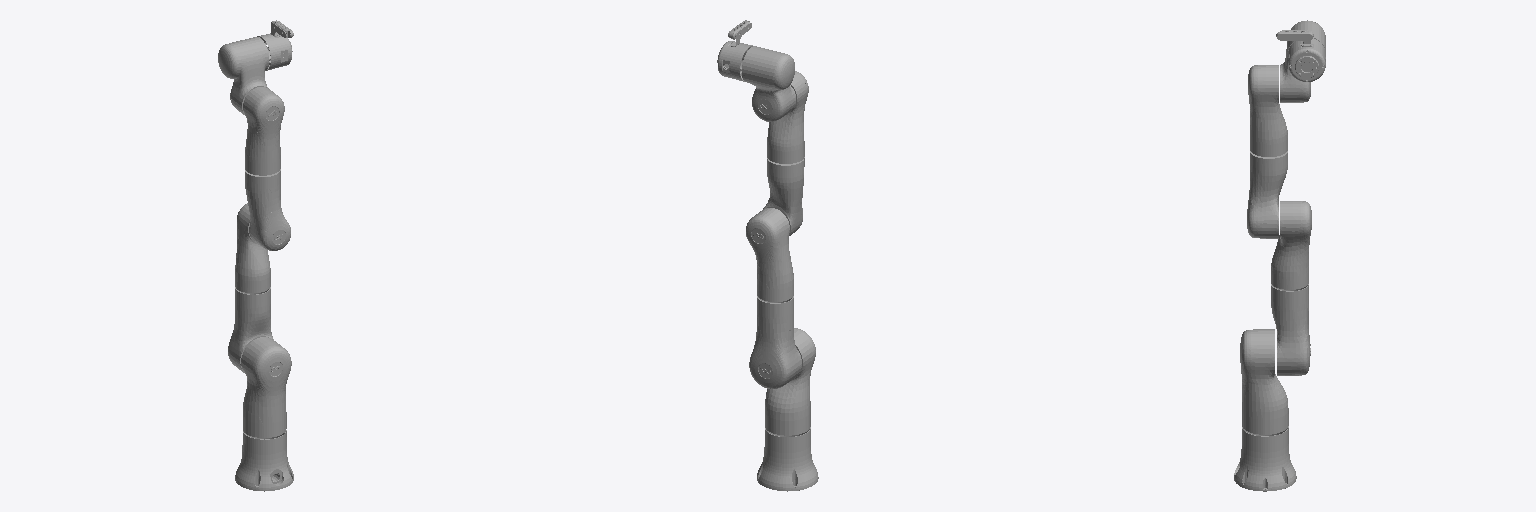
robot.urdf — right_robot_inhand:
<robot name="right_robot_inhand">

  <!-- material definition-->
  
  <material name = "robot_grey">
    <color rgba="0.7 0.7 0.7 1" />
  </material>

  <material name="gripper_black">
    <color rgba="0.1 0.1 0.1 1"/>
  </material>      
  
  <material name="gripper_white">
    <color rgba="0.9 0.9 0.9 1"/>
  </material>

  <material name="gripper_grey">
    <color rgba="0.792156862745098 0.819607843137255 0.933333333333333 1"/>
  </material>

  <!-- joints of right arm -->

  <joint name="joint1" type="revolute">
    <parent link="base_link"/>
    <child link="link1"/>
    <origin rpy="0 3.141592653589793 0" xyz="0 0 0.155"/>
    <axis xyz="0 0 1"/>
    <limit effort="123" lower="-2.7925" upper="2.7925" velocity="2.0944"/>
  </joint>

  <joint name="joint2" type="revolute">
    <parent link="link1"/>
    <child link="link2"/>
    <origin rpy="0 0 3.141592653589793" xyz="0.0 0.03 -0.210"/>
    <axis xyz="0 1 0"/>
    <limit effort="123" lower="-2.2689" upper="2.2689" velocity="2.0944"/>
  </joint>

  <joint name="joint3" type="revolute">
    <parent link="link2"/>
    <child link="link3"/>
    <origin rpy="0 0 3.141592653589793" xyz="0.0 -0.035 -0.205"/>
    <axis xyz="0 0 1"/>
    <limit effort="64" lower="-2.9671" upper="2.9671" velocity="2.4435"/>
  </joint>

  <joint name="joint4" type="revolute">
    <parent link="link3"/>
    <child link="link4"/>
    <origin rpy="0 0 0" xyz="-0.02 -0.03 -0.19"/>
    <axis xyz="0 1 0"/>
    <limit effort="64" lower="-1.8675" upper="2.6878" velocity="2.4435"/>
  </joint>

  <joint name="joint5" type="revolute">
    <parent link="link4"/>
    <child link="link5"/>
    <origin rpy="0 0 0" xyz="0.02 -0.025 -0.195"/>
    <axis xyz="0 0 1"/>
    <limit effort="39" lower="-2.9671" upper="2.9671" velocity="4.8869"/>
  </joint>

  <joint name="joint6" type="revolute">
    <parent link="link5"/>
    <child link="link6"/>
    <origin rpy="0 0 3.141592653589793" xyz="0.0 0.03 -0.19"/>
    <axis xyz="0 1 0"/>
    <limit effort="39" lower="-1.3963" upper="4.5379" velocity="4.8869"/>
  </joint>

  <joint name="joint7" type="revolute">
    <parent link="link6"/>
    <child link="link7"/>
    <origin rpy="0 -1.5707963267948966 0" xyz="0.055 -0.070 -0.11"/>
    <axis xyz="0 0 1"/>
    <limit effort="39" lower="-2.9671" upper="2.9671" velocity="4.8869"/>
  </joint>

  <joint name="link7_to_flange" type="fixed">
    <parent link="link7"/>
    <child link="flange"/>
    <origin rpy="3.141592653589793 0 0" xyz="0.0 0.0 -0.081"/>
  </joint>

  <!-- links of right arm -->

  <link name="base_link">
    <inertial>
      <mass value="3.653"/>
      <origin rpy="0 0 0" xyz="0.0002 0.0006 0.0874"/>
      <inertia ixx="0.0194" ixy="0.0000" ixz="0.0000" iyy="0.0196" iyz="-0.0001" izz="0.0088"/>
    </inertial>
    <visual>
      <origin rpy="0 0 3.141592653589793" xyz="0 0 0"/>
      <geometry>
        <mesh filename="meshes/flexiv_arm/visual/link0.obj"/>
      </geometry>
      <material name="robot_grey" />
    </visual>
    <collision>
      <origin rpy="0 0 3.141592653589793" xyz="0 0 0"/>
      <geometry>
        <mesh filename="meshes/flexiv_arm/collision/link0.stl"/>
      </geometry>
    </collision>
  </link>

  <link name="link1">
    <inertial>
      <mass value="3.673"/>
      <origin rpy="0 0 0" xyz="0.0000 0.0060 -0.1489"/>
      <inertia ixx="0.0276" ixy="0.0000" ixz="0.0000" iyy="0.0272" iyz="-0.0017" izz="0.0077"/>
    </inertial>
    <visual>
      <origin rpy="0 3.141592653589793 0" xyz="0 0 0"/>
      <geometry>
        <mesh filename="meshes/flexiv_arm/visual/link1.obj"/>
      </geometry>
      <material name="robot_grey" />
    </visual>
    <collision>
      <origin rpy="0 3.141592653589793 0" xyz="0 0 0"/>
      <geometry>
        <mesh filename="meshes/flexiv_arm/collision/link1.stl"/>
      </geometry>
    </collision>
  </link>

  <link name="link2">
    <inertial>
      <mass value="2.734"/>
      <origin rpy="0 0 0" xyz="0.0000 -0.0362 -0.0979"/>
      <inertia ixx="0.0234" ixy="0.0000" ixz="0.0000" iyy="0.0243" iyz="-0.0003" izz="0.0036"/>
    </inertial>
    <visual>
      <origin rpy="3.141592653589793 0 0" xyz="0 0 0"/>
      <geometry>
        <mesh filename="meshes/flexiv_arm/visual/link2.obj"/>
      </geometry>
      <material name="robot_grey" />
    </visual>
    <collision>
      <origin rpy="3.141592653589793 0 0" xyz="0 0 0"/>
      <geometry>
        <mesh filename="meshes/flexiv_arm/collision/link2.stl"/>
      </geometry>
    </collision>
  </link>

  <link name="link3">
    <inertial>
      <mass value="2.397"/>
      <origin rpy="0 0 0" xyz="-0.0117 -0.0028 -0.1334"/>
      <inertia ixx="0.0141" ixy="0.0001" ixz="0.0014" iyy="0.0137" iyz="0.0007" izz="0.0038"/>
    </inertial>
    <visual>
      <origin rpy="0 3.141592653589793 0" xyz="0 0 0"/>
      <geometry>
        <mesh filename="meshes/flexiv_arm/visual/link3r.obj"/>
      </geometry>
      <material name="robot_grey" />
    </visual>
    <collision>
      <origin rpy="0 3.141592653589793 0" xyz="0 0 0"/>
      <geometry>
        <mesh filename="meshes/flexiv_arm/collision/link3r.obj"/>
      </geometry>
    </collision>
  </link>

  <link name="link4">
    <inertial>
      <mass value="2.397"/>
      <origin rpy="0 0 0" xyz="0.0126 -0.0312 -0.1013"/>
      <inertia ixx="0.0184" ixy="0.0001" ixz="-0.0016" iyy="0.0188" iyz="-0.0012" izz="0.0030"/>
    </inertial>
    <visual>
      <origin rpy="3.141592653589793 0 0" xyz="0 0 0"/>
      <geometry>
        <mesh filename="meshes/flexiv_arm/visual/link4r.obj"/>
      </geometry>
      <material name="robot_grey" />
    </visual>
    <collision>
      <origin rpy="3.141592653589793 0 0" xyz="0 0 0"/>
      <geometry>
        <mesh filename="meshes/flexiv_arm/collision/link4r.obj"/>
      </geometry>
    </collision>
  </link>

  <link name="link5">
    <inertial>
      <mass value="2.363"/>
      <origin rpy="0 0 0" xyz="0.0000 0.0032 -0.1328"/>
      <inertia ixx="0.0140" ixy="0.0000" ixz="0.0000" iyy="0.0134" iyz="-0.0007" izz="0.0036"/>
    </inertial>
    <visual>
      <origin rpy="0 3.141592653589793 0" xyz="0 0 0"/>
      <geometry>
        <mesh filename="meshes/flexiv_arm/visual/link5.obj"/>
      </geometry>
      <material name="robot_grey" />
    </visual>
    <collision>
      <origin rpy="0 3.141592653589793 0" xyz="0 0 0"/>
      <geometry>
        <mesh filename="meshes/flexiv_arm/collision/link5.stl"/>
      </geometry>
    </collision>
  </link>

  <link name="link6">
    <inertial>
      <mass value="2.135"/>
      <origin rpy="0 0 0" xyz="0.0093 -0.0567 -0.0694"/>
      <inertia ixx="0.0083" ixy="-0.0003" ixz="-0.0008" iyy="0.0086" iyz="0.0018" izz="0.0036"/>
    </inertial>
    <visual>
      <origin rpy="0 3.141592653589793 0" xyz="0 0 0"/>
      <geometry>
        <mesh filename="meshes/flexiv_arm/visual/link6r.obj"/>
      </geometry>
      <material name="robot_grey" />
    </visual>
    <collision>
      <origin rpy="0 3.141592653589793 0" xyz="0 0 0"/>
      <geometry>
        <mesh filename="meshes/flexiv_arm/collision/link6r.obj"/>
      </geometry>
    </collision>
  </link>

  <link name="link7">
    <inertial>
      <mass value="0.793"/>
      <origin rpy="0 0 0" xyz="0.0000 0.0003 -0.0250"/>
      <inertia ixx="0.0009" ixy="0.0000" ixz="0.0000" iyy="0.0010" iyz="0.0000" izz="0.0009"/>
    </inertial>
    <visual>
      <origin rpy="3.141592653589793 0 0" xyz="0 0 0"/>
      <geometry>
        <mesh filename="meshes/flexiv_arm/visual/link7_inhand_r.stl"/>
      </geometry>
      <material name="robot_grey" />
    </visual>
    <collision>
      <origin rpy="3.141592653589793 0 0" xyz="0 0 0"/>
      <geometry>
        <mesh filename="meshes/flexiv_arm/collision/link7_inhand_r.stl"/>
      </geometry>
    </collision>
  </link>

  <link name="flange">
    <inertial>
      <mass value="0.0" />
      <origin rpy="0 0 0" xyz="0.0 0.0 0.0" />
      <inertia ixx="0.0" ixy="0.0" ixz="0.0" iyy="0.0" iyz="0.0" izz="0.0" />
    </inertial>
  </link>

  <!-- right arm to gripper -->

  <joint name="flange2gripper" type="fixed">
    <parent link="flange" />
    <child link="robotiq_2f85_base_link" />
    <origin rpy="0.0 0.0 -1.5707963267948966" xyz="0.0 0.0 0.0" />
  </joint>

  <!-- right gripper -->
  
  <link name="robotiq_2f85_base_link">
    <inertial>
      <origin xyz="0.00021987 -2.3546E-10 0.030163" rpy="0 0 0" />
      <mass value="0.30915" />
      <inertia ixx="0.00028972" ixy="-5.7879E-10" ixz="-1.8543E-06" iyy="0.00030737" iyz="1.682E-12" izz="0.00019914" />
    </inertial>
    <visual>
      <origin xyz="0 0 0" rpy="0 0 0" />
      <geometry>
        <mesh filename="meshes/gripper/visual/robotiq_2f85_base_link.stl" />
      </geometry>
      <material name="gripper_black" />
    </visual>
    <collision>
      <origin xyz="0 0 0" rpy="0 0 0" />
      <geometry>
        <mesh filename="meshes/gripper/collision/robotiq_2f85_base_link.stl" />
      </geometry>
    </collision>
  </link>

  <link name="left_outer_knuckle">
    <inertial>
      <origin xyz="0.0178331863169983 3.68915177224286E-11 0.0021442477325704" rpy="0 0 0" />
      <mass value="0.00684838849434396" />
      <inertia ixx="2.66832029033166E-07" ixy="1.66142314639824E-15" ixz="1.45945633322873E-07" iyy="1.3889233257419E-06" iyz="2.82951161241588E-15" izz="1.26603336914415E-06" />
    </inertial>
    <visual>
      <origin xyz="0 0 0" rpy="0 0 0" />
      <geometry>
        <mesh filename="meshes/gripper/visual/outer_knuckle.stl" />
      </geometry>
      <material name="gripper_black" />
    </visual>
    <collision>
      <origin xyz="0 0 0" rpy="0 0 0" />
      <geometry>
        <mesh filename="meshes/gripper/collision/outer_knuckle.stl" />
      </geometry>
    </collision>
  </link>

  <joint name="finger_joint" type="revolute">
    <origin xyz="0.0306011444260539 0 0.0627920162695395" rpy="0 0 0" />
    <parent link="robotiq_2f85_base_link" />
    <child link="left_outer_knuckle" />
    <axis xyz="0 -1 0" />
    <limit lower="0" upper="0.725" velocity="2.0" effort="1000" />
  </joint>

  <link name="left_outer_finger">
    <inertial>
      <origin xyz="0.00131451599174296 2.88942057994543E-15 0.0215404163180413" rpy="0 0 0" />
      <mass value="0.0273093985570947" />
      <inertia ixx="8.51629628283022E-06" ixy="2.58174336207405E-19" ixz="3.83829504344079E-07" iyy="6.9133328065108E-06" iyz="-7.58589926143789E-19" izz="2.25006832221981E-06" />
    </inertial>
    <visual>
      <origin xyz="0 0 0" rpy="0 0 0" />
      <geometry>
        <mesh filename="meshes/gripper/visual/outer_finger.stl" />
      </geometry>
      <material name="gripper_black" />
    </visual>
    <collision>
      <origin xyz="0 0 0" rpy="0 0 0" />
      <geometry>
        <mesh filename="meshes/gripper/collision/outer_finger.stl" />
      </geometry>
    </collision>
  </link>

  <joint name="left_outer_finger_joint" type="fixed">
    <origin xyz="0.0316910442266543 0 -0.00193396375724605" rpy="0 0 0" />
    <parent link="left_outer_knuckle" />
    <child link="left_outer_finger" />
    <axis xyz="0 -1 0" />
  </joint>

  <link name="left_inner_knuckle">
    <inertial>
      <origin xyz="0.017097546626628 -3.93808524389535E-10 0.0224918438201868" rpy="0 0 0" />
      <mass value="0.0110930853895903" />
      <inertia ixx="4.23392770691541E-06" ixy="5.748978936968E-15" ixz="1.78855677119788E-06" iyy="3.96548790524392E-06" iyz="1.05464666369669E-14" izz="3.24068002883007E-06" />
    </inertial>
    <visual>
      <origin xyz="0 0 0" rpy="0 0 0" />
      <geometry>
        <mesh filename="meshes/gripper/visual/inner_knuckle.stl" />
      </geometry>
      <material name="gripper_black" />
    </visual>
    <collision>
      <origin xyz="0 0 0" rpy="0 0 0" />
      <geometry>
        <mesh filename="meshes/gripper/collision/inner_knuckle.stl" />
      </geometry>
    </collision>
  </link>

  <joint name="left_inner_knuckle_joint" type="revolute">
    <origin xyz="0.0127000000001501 0 0.0693074999999639" rpy="0 0 0" />
    <parent link="robotiq_2f85_base_link" />
    <child link="left_inner_knuckle" />
    <axis xyz="0 -1 0" />
    <limit lower="0" upper="0.8757" velocity="2.0" effort="1000" />
    <mimic joint="finger_joint" multiplier="1" offset="0" />
  </joint>

  <link name="left_inner_finger">
    <inertial>
      <origin xyz="0.0060275613594574 -6.29183141465421E-15 0.00669925693133241" rpy="0 0 0" />
      <mass value="0.00724255346165745" />
      <inertia ixx="1.47824274053603E-06" ixy="-3.94884463570303E-19" ixz="-3.45268847648622E-07" iyy="1.70064480838395E-06" iyz="3.5059838910097E-19" izz="4.77151336838364E-07" />
    </inertial>
    <visual>
      <origin xyz="0 0 0" rpy="0 0 0" />
      <geometry>
        <mesh filename="meshes/gripper/visual/inner_finger.stl" />
      </geometry>
      <material name="gripper_black" />
    </visual>
    <collision>
      <origin xyz="0 0 0" rpy="0 0 0" />
      <geometry>
        <mesh filename="meshes/gripper/collision/inner_finger.stl" />
      </geometry>
    </collision>
  </link>

  <joint name="left_inner_finger_joint" type="revolute">
    <origin xyz="0.034585310861294 0 0.0454970193817975" rpy="0 0 0" />
    <parent link="left_inner_knuckle" />
    <child link="left_inner_finger" />
    <axis xyz="0 -1 0" />
    <limit lower="0" upper="0.8757" velocity="2.0" effort="1000" />
    <mimic joint="finger_joint" multiplier="-1" offset="0" />
  </joint>

  <link name="right_inner_knuckle">
    <inertial>
      <origin xyz="0.0168606186773776 3.93808471820465E-10 0.0226699950793434" rpy="0 0 0" />
      <mass value="0.0110930853895903" />
      <inertia ixx="4.27134775939882E-06" ixy="-8.53568456728898E-15" ixz="1.77774229944246E-06" iyy="3.96548790524392E-06" iyz="-8.45108024914164E-15" izz="3.20325997634666E-06" />
    </inertial>
    <visual>
      <origin xyz="0 0 0" rpy="0 0 0" />
      <geometry>
        <mesh filename="meshes/gripper/visual/inner_knuckle.stl" />
      </geometry>
      <material name="gripper_black" />
    </visual>
    <collision>
      <origin xyz="0 0 0" rpy="0 0 0" />
      <geometry>
        <mesh filename="meshes/gripper/collision/inner_knuckle.stl" />
      </geometry>
    </collision>
  </link>

  <joint name="right_inner_knuckle_joint" type="revolute">
    <origin xyz="-0.0126999999998499 0 0.0693075000000361" rpy="0 0 3.14159265358979" />
    <parent link="robotiq_2f85_base_link" />
    <child link="right_inner_knuckle" />
    <axis xyz="0 1 0" />
    <limit lower="0" upper="0.8757" velocity="2.0" effort="1000" />
    <mimic joint="finger_joint" multiplier="-1" offset="0" />
  </joint>

  <link name="right_inner_finger">
    <inertial>
      <origin xyz="0.00602756228812038 -6.47284509480176E-15 0.00669925609578108" rpy="0 0 0" />
      <mass value="0.00724255346165744" />
      <inertia ixx="1.47824283625957E-06" ixy="-3.95952064019123E-19" ixz="-3.45268708875543E-07" iyy="1.70064480838394E-06" iyz="3.55286507960029E-19" izz="4.77151241114822E-07" />
    </inertial>
    <visual>
      <origin xyz="0 0 0" rpy="0 0 0" />
      <geometry>
        <mesh filename="meshes/gripper/visual/inner_finger.stl" />
      </geometry>
      <material name="gripper_black" />
    </visual>
    <collision>
      <origin xyz="0 0 0" rpy="0 0 0" />
      <geometry>
        <mesh filename="meshes/gripper/collision/inner_finger.stl" />
      </geometry>
    </collision>
  </link>

  <joint name="right_inner_finger_joint" type="revolute">
    <origin xyz="0.0341060475457406 0 0.0458573878541688" rpy="0 0 0" />
    <parent link="right_inner_knuckle" />
    <child link="right_inner_finger" />
    <axis xyz="0 1 0" />
    <limit lower="0" upper="0.8757" velocity="2.0" effort="1000" />
    <mimic joint="finger_joint" multiplier="1" offset="0" />
  </joint>

  <link name="right_outer_knuckle">
    <inertial>
      <origin xyz="0.0178097074051638 3.60493211424024E-11 0.00233123458346721" rpy="0 0 0" />
      <mass value="0.00684838849401352" />
      <inertia ixx="2.70004361573169E-07" ixy="1.59579467624491E-15" ixz="1.56396493788199E-07" iyy="1.38892332558312E-06" iyz="2.82357800318817E-15" izz="1.26286103637978E-06" />
    </inertial>
    <visual>
      <origin xyz="0 0 0" rpy="0 0 0" />
      <geometry>
        <mesh filename="meshes/gripper/visual/outer_knuckle.stl" />
      </geometry>
      <material name="gripper_black" />
    </visual>
    <collision>
      <origin xyz="0 0 0" rpy="0 0 0" />
      <geometry>
        <mesh filename="meshes/gripper/collision/outer_knuckle.stl" />
      </geometry>
    </collision>
  </link>

  <joint name="right_outer_knuckle_joint" type="revolute">
    <origin xyz="-0.0306011444258893 0 0.0627920162695395" rpy="0 0 3.14159265358979" />
    <parent link="robotiq_2f85_base_link" />
    <child link="right_outer_knuckle" />
    <axis xyz="0 1 0" />
    <limit lower="0" upper="0.8757" velocity="2.0" effort="1000" />
    <mimic joint="finger_joint" multiplier="-1" offset="0" />
  </joint>

  <link name="right_outer_finger">
    <inertial>
      <origin xyz="0.00108844269639009 -2.611488350845E-15 0.0215530225245502" rpy="0 0 0" />
      <mass value="0.0273093985570947" />
      <inertia ixx="8.52366028592721E-06" ixy="3.41683380899422E-19" ixz="3.18003675694284E-07" iyy="6.91333280651081E-06" iyz="7.37726682706417E-19" izz="2.24270431912283E-06" />
    </inertial>
    <visual>
      <origin xyz="0 0 0" rpy="0 0 0" />
      <geometry>
        <mesh filename="meshes/gripper/visual/outer_finger.stl" />
      </geometry>
      <material name="gripper_black" />
    </visual>
    <collision>
      <origin xyz="0 0 0" rpy="0 0 0" />
      <geometry>
        <mesh filename="meshes/gripper/collision/outer_finger.stl" />
      </geometry>
    </collision>
  </link>

  <joint name="right_outer_finger_joint" type="fixed">
    <origin xyz="0.0317095909367246 0 -0.0016013564954687" rpy="0 0 0" />
    <parent link="right_outer_knuckle" />
    <child link="right_outer_finger" />
    <axis xyz="0 1 0" />
  </joint>

</robot>

--- Render facts (derived) ---
3 views of the same robot in one strip: view 1: azimuth 30°, elevation 25°; view 2: azimuth 150°, elevation 25°; view 3: azimuth 270°, elevation 25° (orthographic).
Robot: right_robot_inhand — 18 links, 17 joints (13 revolute, 4 fixed); root link base_link; default pose: every joint at zero.
Visible links, largest first — view 1: link1, link5, base_link, link4, link6, link2, link3, link7; view 2: link2, link3, link6, link1, base_link, link5, link4, link7; view 3: link1, link5, link2, base_link, link3, link4, link7, link6.
Boxes of the visible links, x1,y1,x2,y2 form: link1: [241, 337, 291, 437]; link5: [243, 87, 284, 175]; base_link: [235, 430, 293, 491]; link4: [245, 169, 290, 250]; link6: [218, 37, 268, 114]; link2: [228, 287, 273, 372]; link3: [235, 203, 270, 292]; link7: [257, 20, 293, 70]; link2: [749, 296, 801, 388]; link3: [746, 208, 793, 301]; link6: [742, 46, 795, 121]; link1: [765, 328, 815, 435]; base_link: [757, 427, 818, 491]; link5: [767, 71, 808, 163]; link4: [763, 157, 804, 235]; link7: [717, 20, 752, 81]; link1: [1240, 329, 1288, 434]; link5: [1248, 65, 1287, 156]; link2: [1271, 284, 1310, 375]; base_link: [1234, 426, 1296, 491]; link3: [1271, 201, 1311, 289]; link4: [1247, 151, 1287, 238]; link7: [1276, 30, 1325, 81]; link6: [1280, 20, 1325, 102].
Size in the robot's own frame: 0.2185 by 0.2425 by 1.34 metres.
Meshes: 13 distinct files referenced, 8 mesh visuals loaded (1 binary STL, 7 OBJ); not drawn: 9 (reference not matched to a file when rendering).